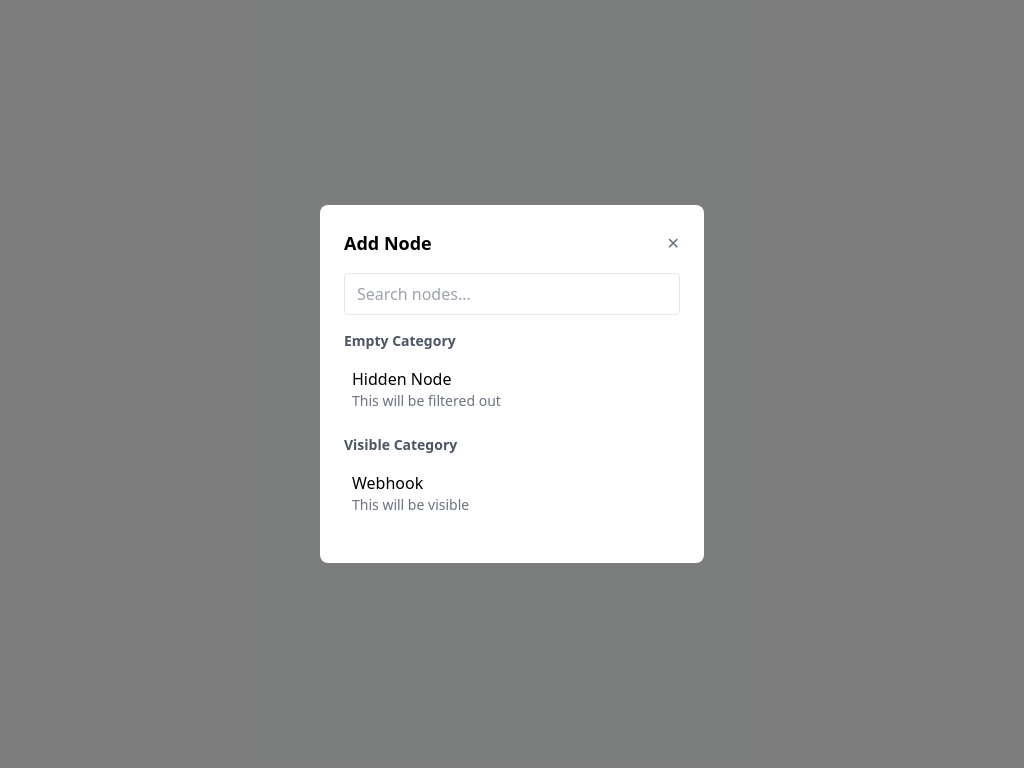
AddNodeModal › should handle categories with no matching types
Type "webhook" into the field with placeholder "Search nodes..." at (512, 294), box [344, 273, 680, 315]
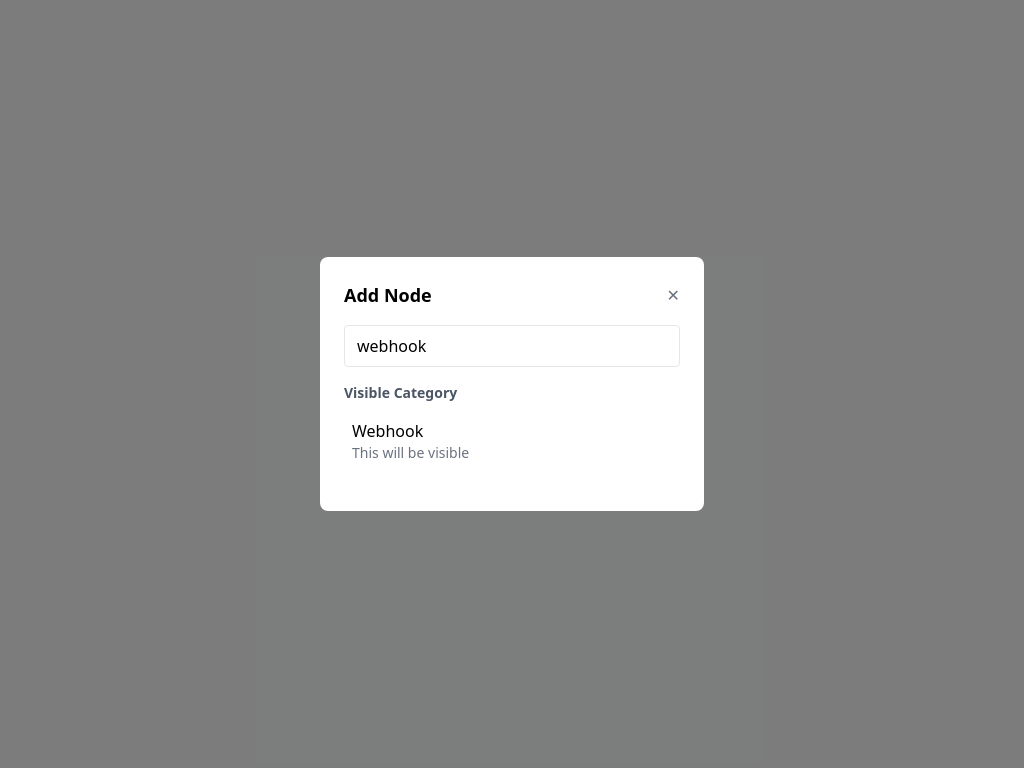
Expected: the heading "Visible Category" is shown, [344, 383, 457, 402]
Result: the heading "Empty Category" is gone
Result: the button "Hidden Node" is gone
